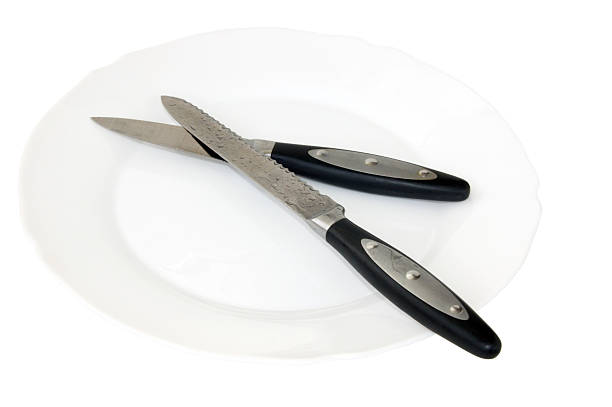knife: (159, 94, 504, 360), (88, 114, 472, 203)
